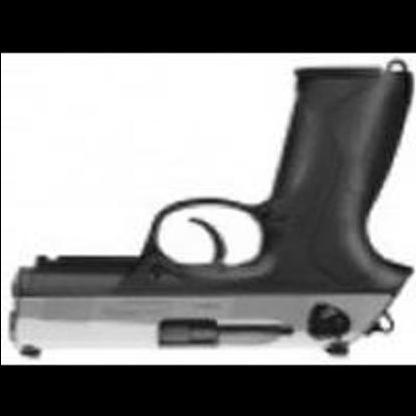weapon: (8, 58, 416, 364)
